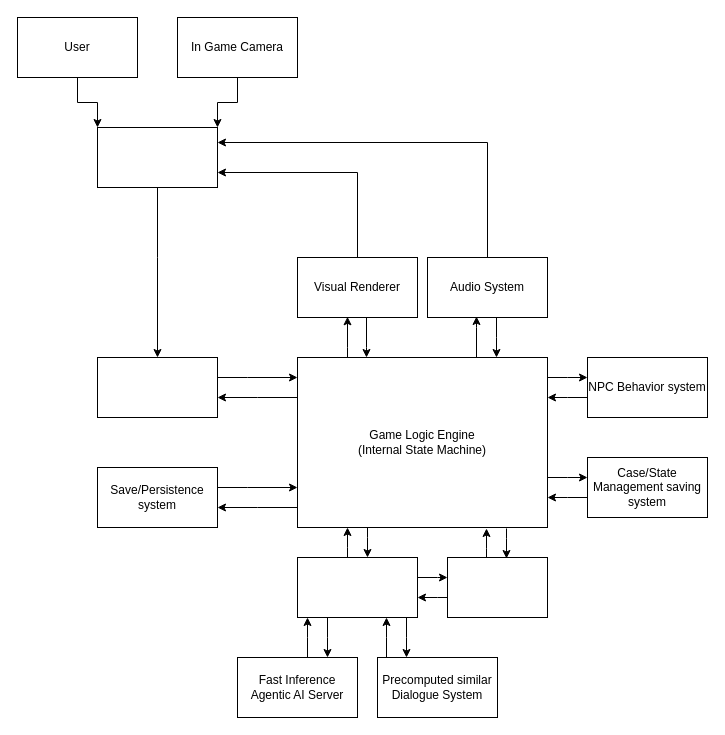
The diagram is 725 pixels wide and 735 high, and some of its shapes have lost their labels. Here are the shapes that lost their labels. From the top down, the centre of each, then its label:
the point at 157,157: UI Manager
the point at 157,387: Command Processor
the point at 357,587: AI NPC Dialogue
the point at 497,587: AI Voice generation server
